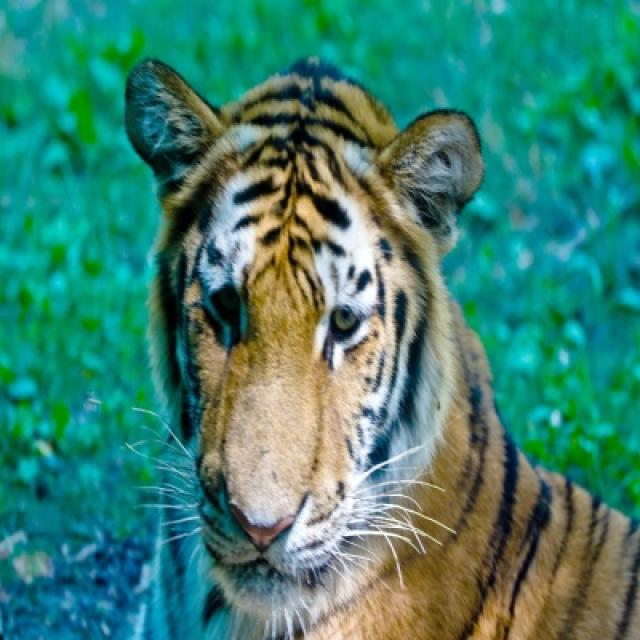Tiger: (127, 52, 637, 632)
